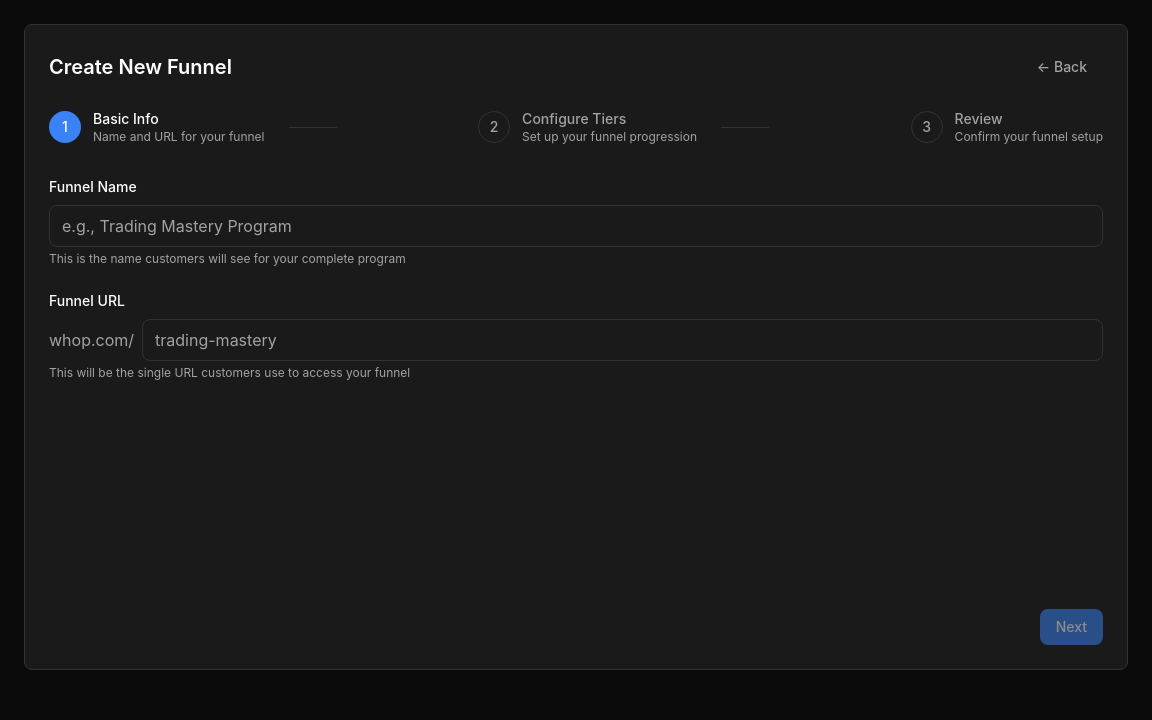
Test: FunnelWizard Component › validates required fields in step 1
This screenshot has width=1152, height=720.
Check: the button "Next" is disabled, box [1040,609,1103,645]
// Fill in funnel name
Type "Test Funnel" into the field with placeholder "e.g., Trading Mastery Program".
click(576, 226); type("Test Funnel")  # box [49,205,1103,247]
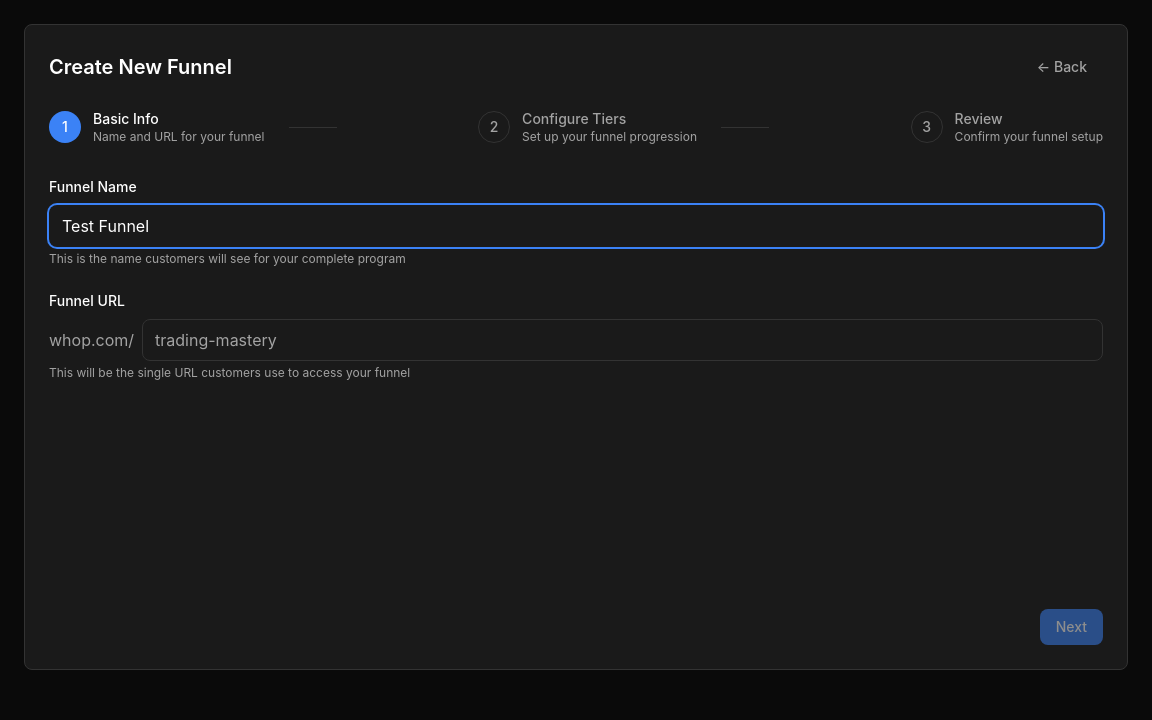
Check: the button "Next" is disabled, box [1040,609,1103,645]
// Fill in URL
Type "test-funnel" into the field with placeholder "trading-mastery".
click(623, 340); type("test-funnel")  # box [142,319,1103,361]
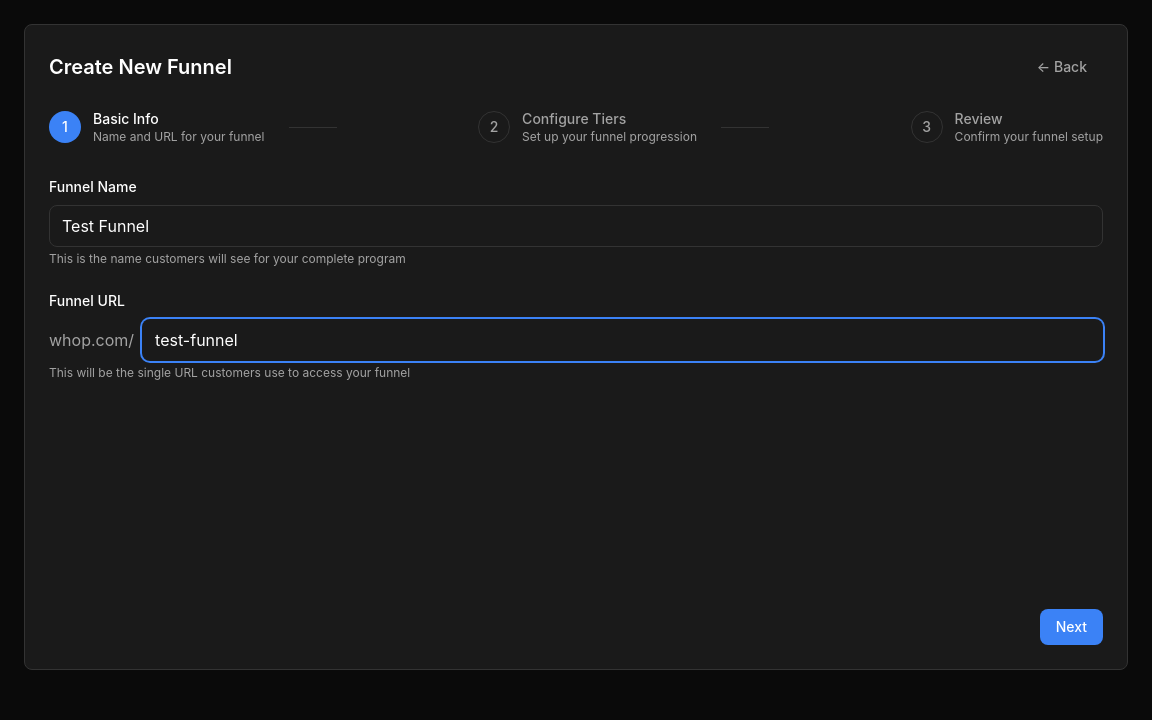
Check: the button "Next" is enabled, box [1040,609,1103,645]
